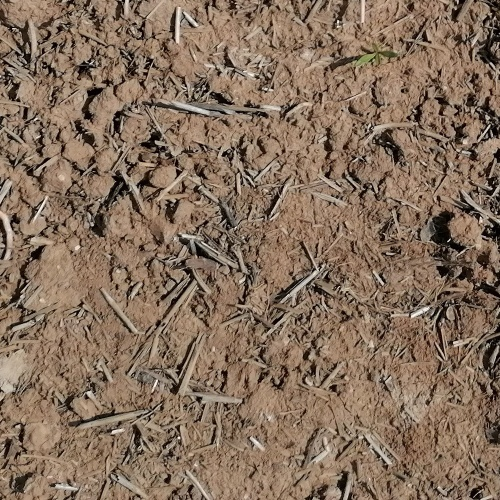beet: (354, 42, 399, 68)
